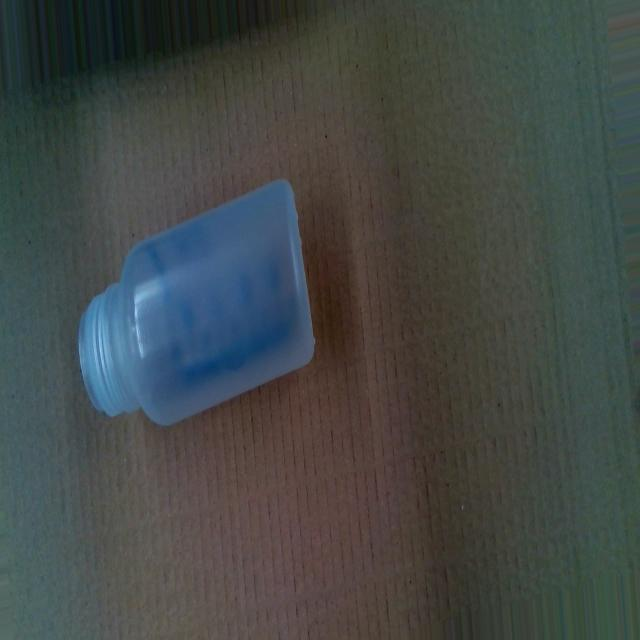bottle: (77, 174, 317, 430)
